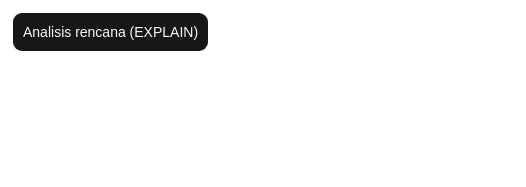
Test: ExplainPanel › shows the plan tree and resets when the SQL changes
Click the button "Analisis rencana (EXPLAIN)".
click(111, 32)  # box [12,12,209,52]
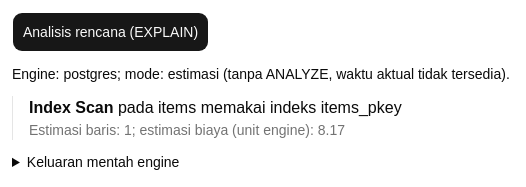
Result: the text "mode: estimasi" is shown at [117,66,510,82]
